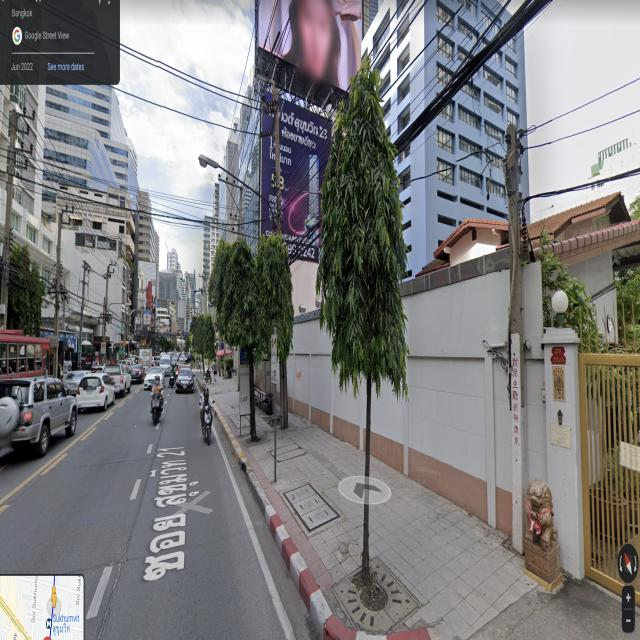tree: (313, 48, 422, 640), (208, 224, 303, 460), (1, 254, 50, 335), (185, 304, 222, 391)
